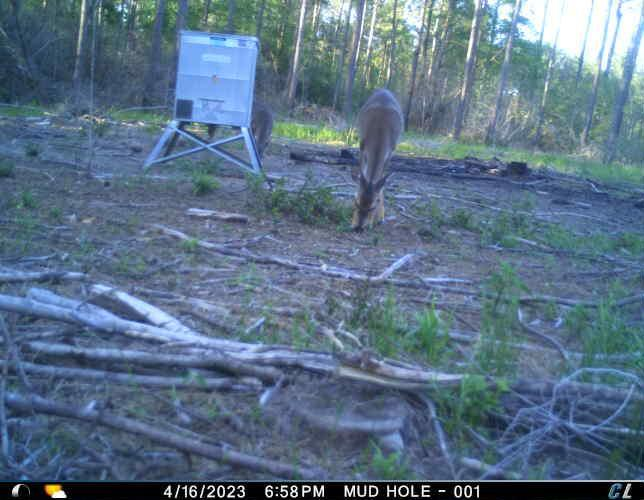Deer: (346, 85, 407, 235), (252, 99, 279, 161)
